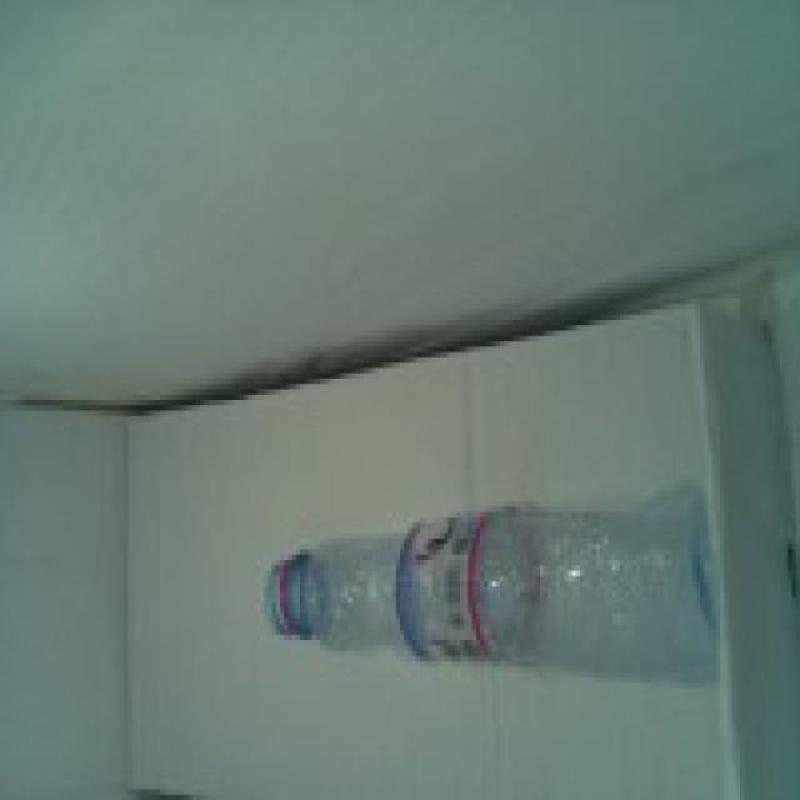botella: (267, 508, 722, 689)
